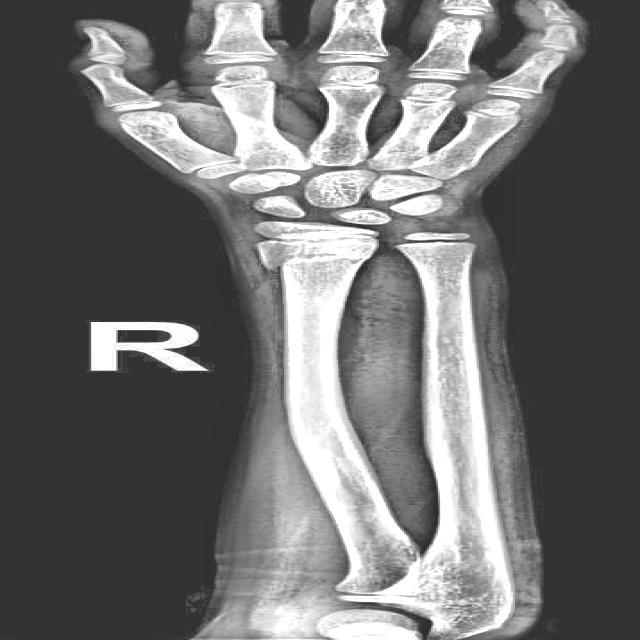fracture: (256, 252, 372, 272)
